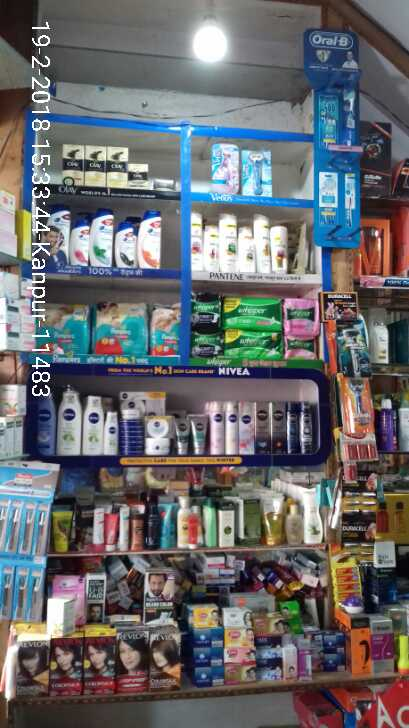gillete: (334, 321, 371, 376), (337, 378, 373, 430)
venus: (212, 144, 242, 196), (242, 148, 272, 196)
